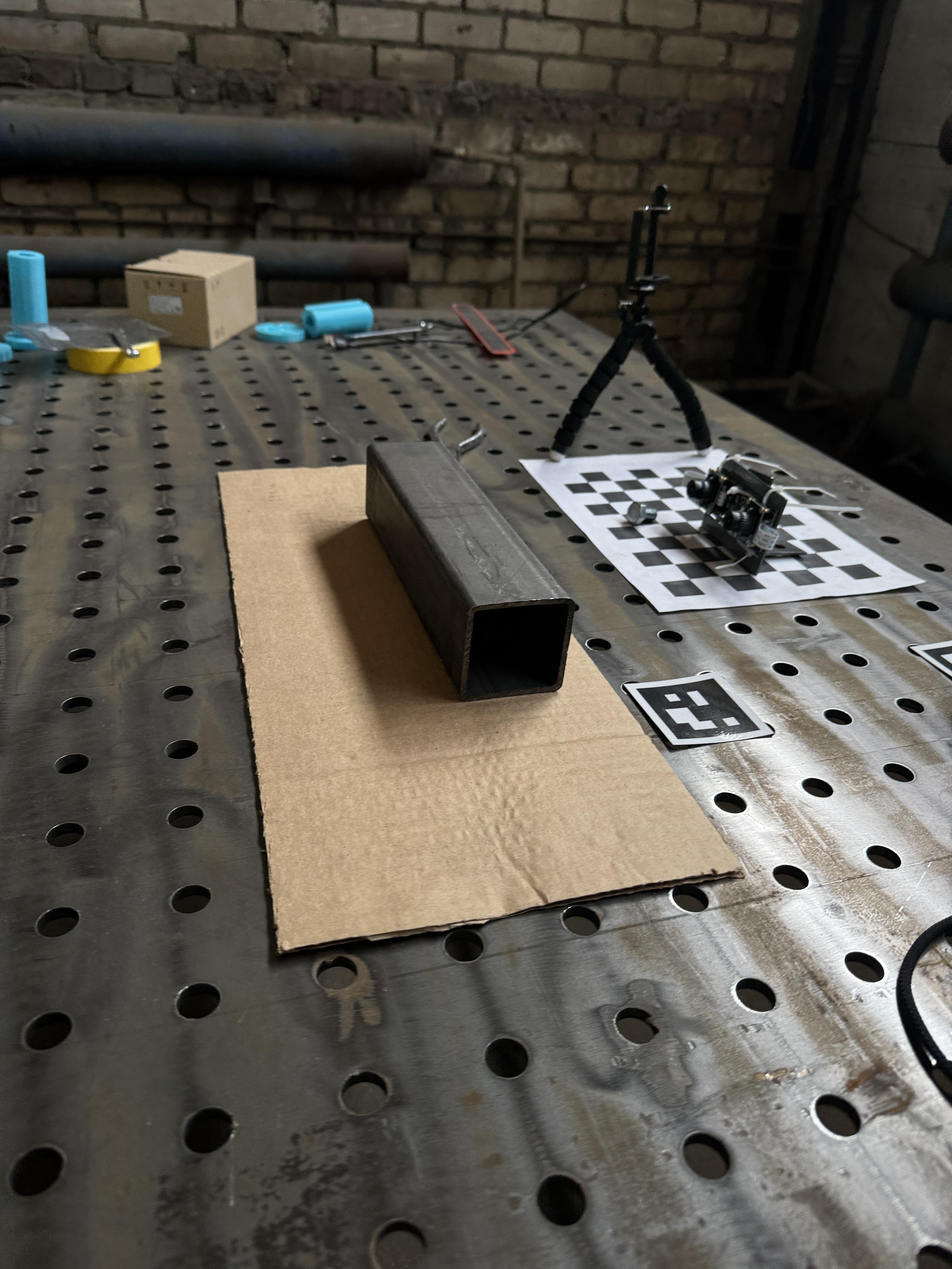detail: (365, 441, 576, 703)
